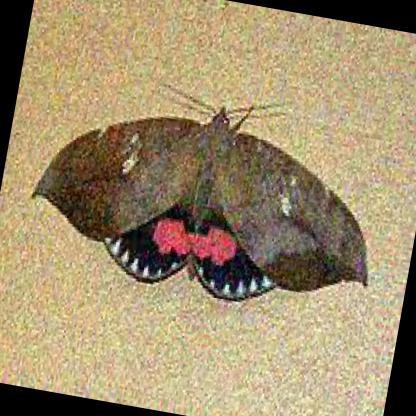fruit sucking moth: (32, 106, 367, 302)
